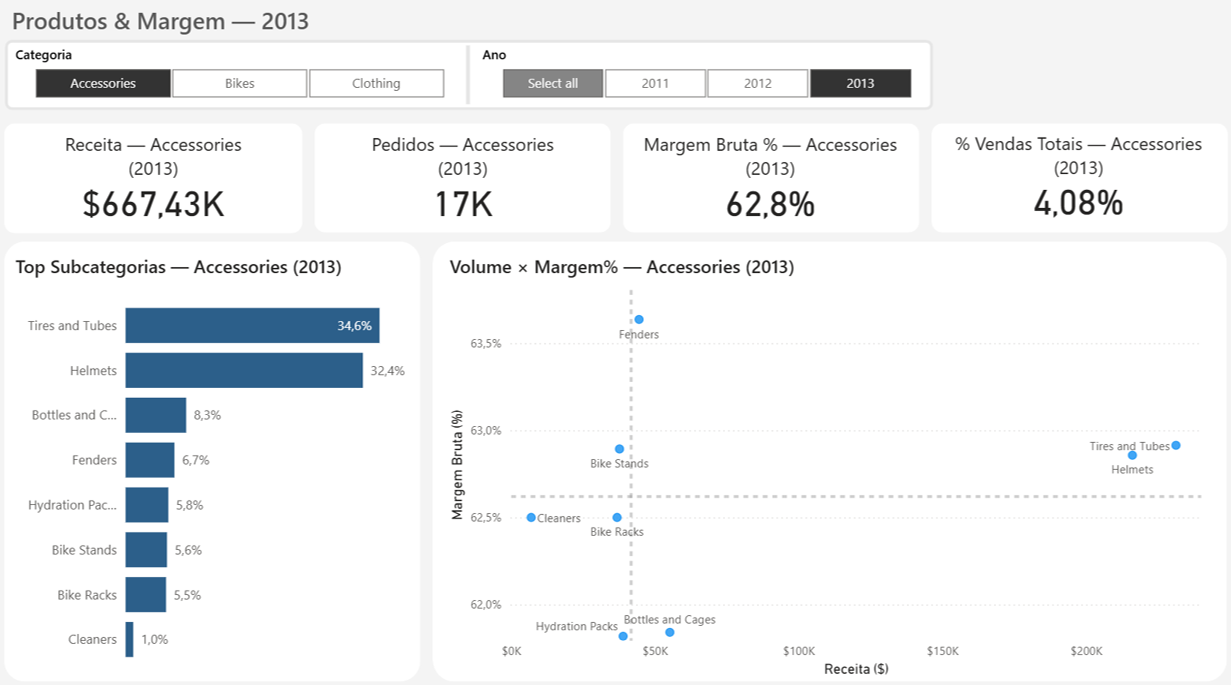

The page's visual inventory and layout, read from the dashboard file:
{"tool":"powerbi","page":{"name":"Produtos & Margem","canvas":[1280,720],"ordinal":1},"visuals":[{"type":"shape","box":[449.6,255,821.1,455.1],"z":0},{"type":"shape","box":[6.9,255,430.4,455.1],"z":1000},{"type":"shape","box":[327.5,132.9,306.2,113],"z":2000},{"type":"shape","box":[646.5,132.9,306.2,113],"z":3000},{"type":"shape","box":[965.5,132.9,306.2,113],"z":4000},{"type":"shape","box":[6.9,133,308.4,113.8],"z":5000},{"type":"shape","box":[7.3,46.8,959.2,72.7],"z":6000},{"type":"slicer","title":"Ano","fields":{"Values":["date_dim.Year"]},"box":[496.8,52,471.8,60.3],"z":7000},{"type":"slicer","title":"Categoria","fields":{"Values":["Selector Category.forced_category"]},"box":[13.5,52,471.8,60.3],"z":8000},{"type":"textbox","box":[10,10,534.2,38.5],"z":9000},{"type":"card","fields":{"Values":["00_Measures.KPI Sales (Selector)"]},"box":[54,141.6,213.6,97.2],"z":10000},{"type":"card","fields":{"Values":["00_Measures.KPI Orders (Selector)"]},"box":[379.2,141.6,204,97.2],"z":11000},{"type":"card","fields":{"Values":["00_Measures.KPI Margin % (Selector)"]},"box":[662.3,141.6,273.6,97.2],"z":12000},{"type":"clusteredBarChart","fields":{"Category":["gold dim_products.subcategory"],"Y":["00_Measures.% Sales In Category (Selector)"]},"box":[13.2,267.6,424.7,441.5],"z":13000},{"type":"card","fields":{"Values":["00_Measures.KPI • Share of Total Sales (Selector)"]},"box":[969.5,140.4,296.4,97.2],"z":14000},{"type":"scatterChart","fields":{"X":["00_Measures.Total Sales By Subcat (Selector)"],"Y":["00_Measures.Gross Margin % By Subcat (Selector)"],"Category":["gold dim_products.subcategory"]},"box":[461.9,267.6,803.9,442.7],"z":15000},{"type":"shape","box":[470.4,52.8,32.4,61.2],"z":16000}]}

Visuals, with their boxes in screenshot pixels (x1, y1, x2, y2), scaled from the page's 1280x720 canvas onto the 1231x685 screenshot:
shape: [left=432, top=243, right=1222, bottom=676]
shape: [left=7, top=243, right=421, bottom=676]
shape: [left=315, top=126, right=609, bottom=234]
shape: [left=622, top=126, right=916, bottom=234]
shape: [left=929, top=126, right=1223, bottom=234]
shape: [left=7, top=127, right=303, bottom=235]
shape: [left=7, top=45, right=930, bottom=114]
"Ano" slicer: [left=478, top=49, right=932, bottom=107]
"Categoria" slicer: [left=13, top=49, right=467, bottom=107]
textbox: [left=10, top=10, right=523, bottom=46]
card - 00_Measures.KPI Sales (Selector): [left=52, top=135, right=257, bottom=227]
card - 00_Measures.KPI Orders (Selector): [left=365, top=135, right=561, bottom=227]
card - 00_Measures.KPI Margin % (Selector): [left=637, top=135, right=900, bottom=227]
clusteredBarChart - gold dim_products.subcategory x 00_Measures.% Sales In Category (Selector): [left=13, top=255, right=421, bottom=675]
card - 00_Measures.KPI • Share of Total Sales (Selector): [left=932, top=134, right=1217, bottom=226]
scatterChart - 00_Measures.Total Sales By Subcat (Selector) x 00_Measures.Gross Margin % By Subcat (Selector): [left=444, top=255, right=1217, bottom=676]
shape: [left=452, top=50, right=484, bottom=108]
